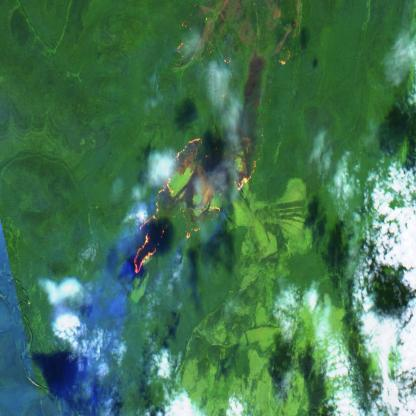fire: (131, 127, 267, 277)
